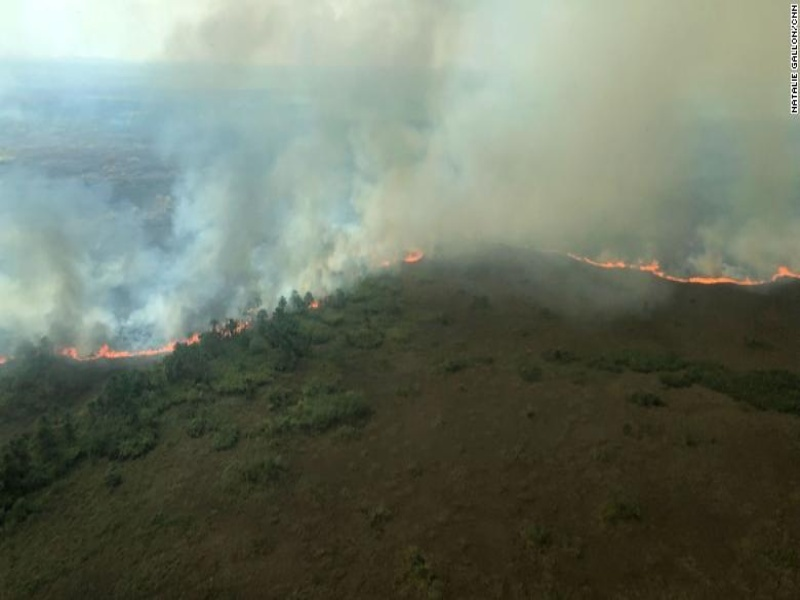smoke: (152, 5, 795, 284)
